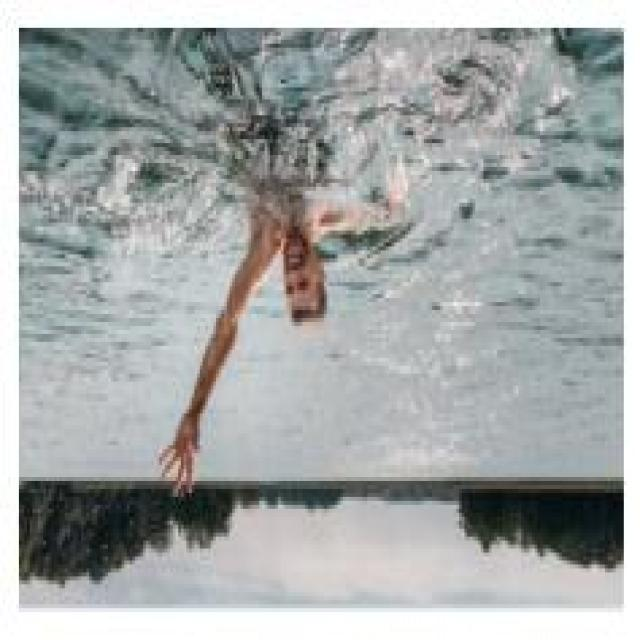Out of Water: (158, 179, 396, 501)
